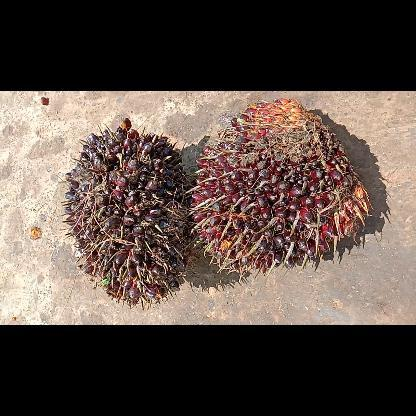TBS mentah: (189, 100, 372, 272), (60, 117, 188, 304)
